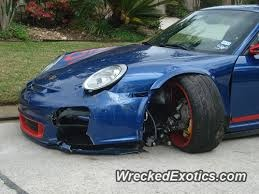Smashed: (49, 72, 183, 159)
